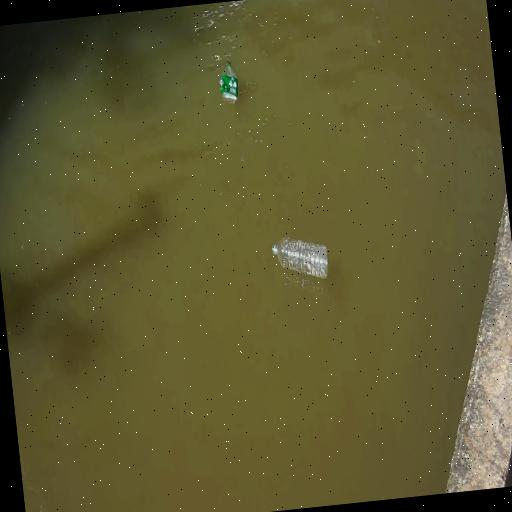plastic: (270, 232, 332, 286), (216, 58, 242, 106)
